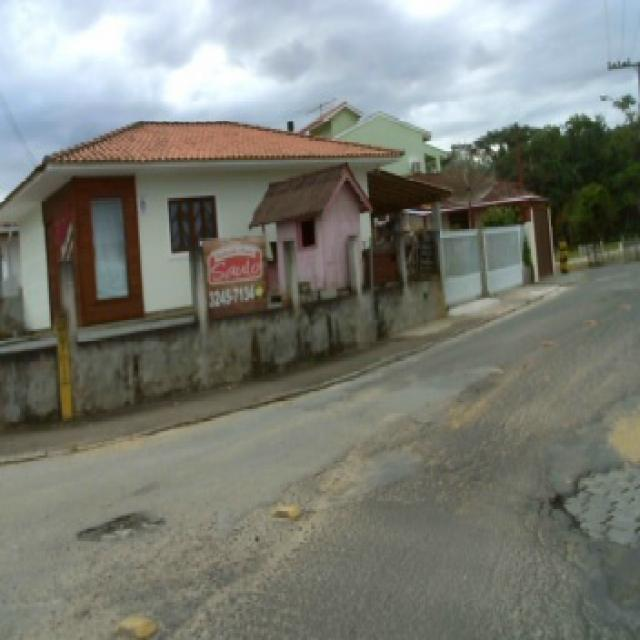Poth-hole: (538, 451, 636, 551), (309, 438, 426, 504), (572, 542, 636, 636), (69, 502, 169, 542), (105, 606, 162, 636), (268, 500, 306, 520), (536, 336, 556, 344), (578, 316, 598, 322)
